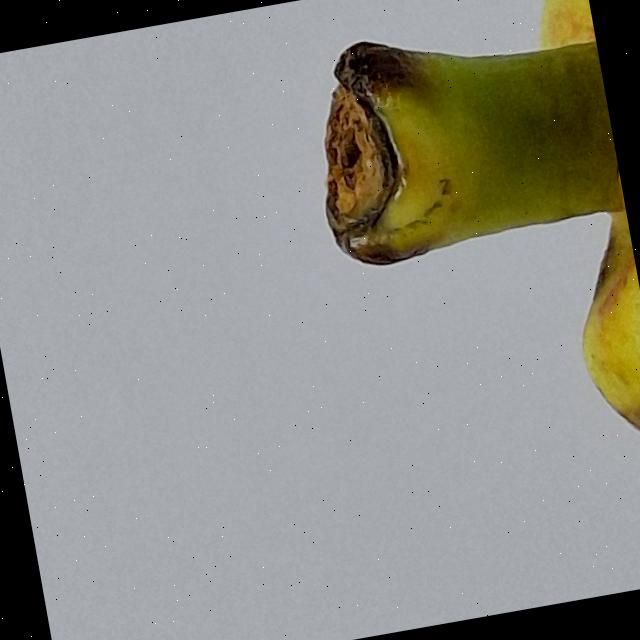mangosteen: (254, 0, 640, 637)
